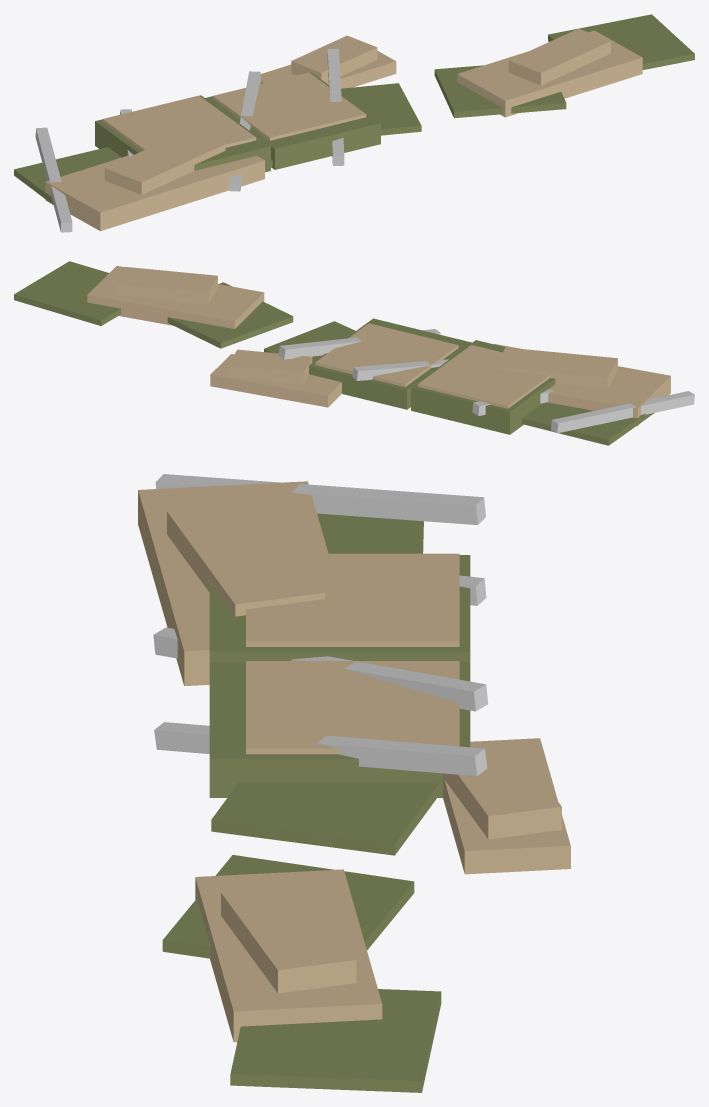
The model's file is SM_HescoCorto4_v0_MallaLimpia_e3_Brecha_LOD1.fbx.
3 views of the same model, one above another, from view 1: azimuth 30°, elevation 25°; view 2: azimuth 150°, elevation 25°; view 3: azimuth 270°, elevation 25° (orthographic). The views are drawn at different scales.
Visible parts, largest first — view 1: SM_hesco_piezas_v103_LOD1; view 2: SM_hesco_piezas_v103_LOD1; view 3: SM_hesco_piezas_v103_LOD1.
Boxes of the visible parts, x1,y1,x2,y2 form: SM_hesco_piezas_v103_LOD1: (14,14,694,232); SM_hesco_piezas_v103_LOD1: (14,261,694,445); SM_hesco_piezas_v103_LOD1: (138,474,570,1092).
Bounding box in the file's own units: 6.66 × 0.351 × 2.02.
